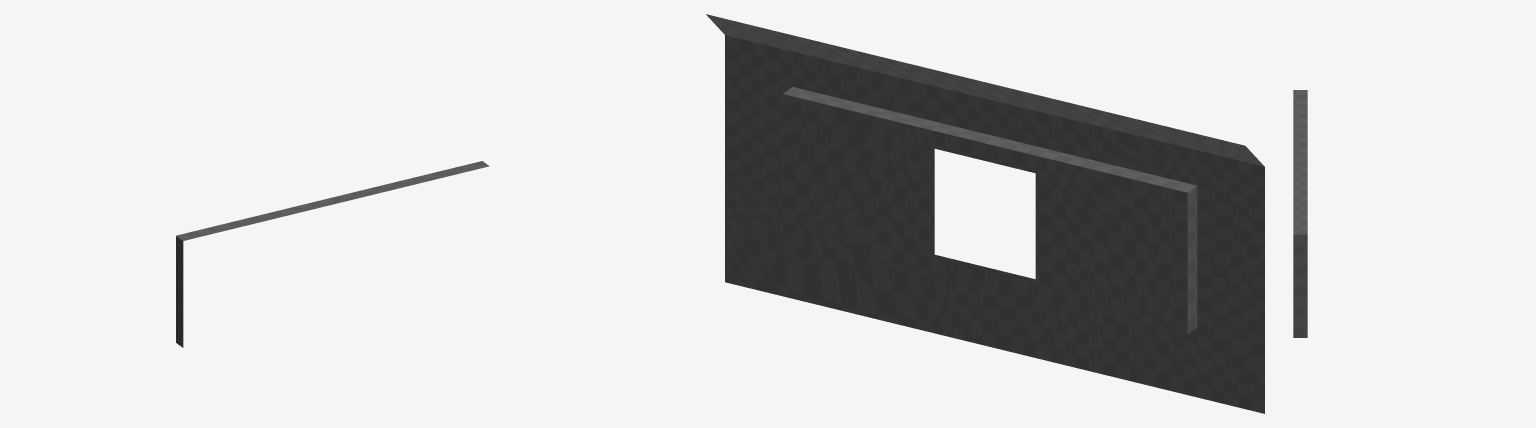
3 views of the same model, side by side, from view 1: azimuth 30°, elevation 25°; view 2: azimuth 150°, elevation 25°; view 3: azimuth 270°, elevation 25° (orthographic). The views are drawn at different scales.
Parts seen in each view (by area): view 1: 1; view 2: 1; view 3: 1.
Part boxes in pixels (<box>): 1: <box>176,161,489,347</box>; 1: <box>706,14,1264,413</box>; 1: <box>1293,90,1307,337</box>.
Bounding box in the file's own units: 4 × 2 × 2.
2 materials, 2 textured.
